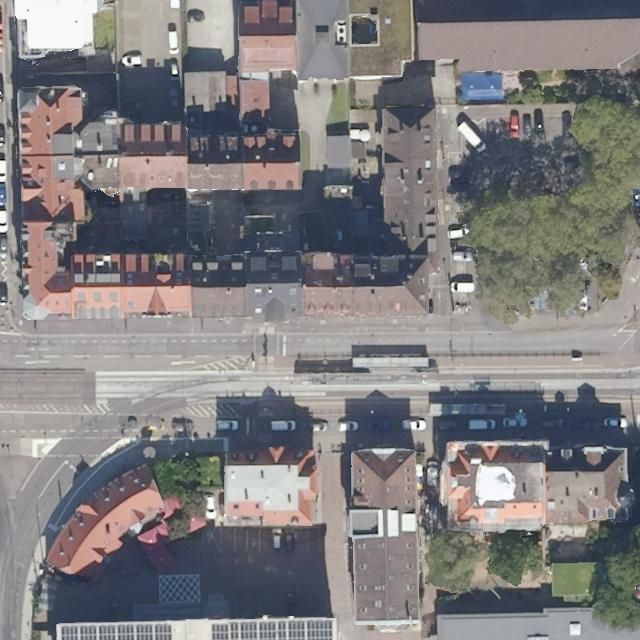PV: (212, 618, 336, 639), (56, 622, 172, 639)
